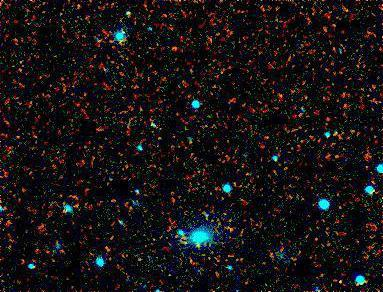star: (184, 230, 214, 260)
